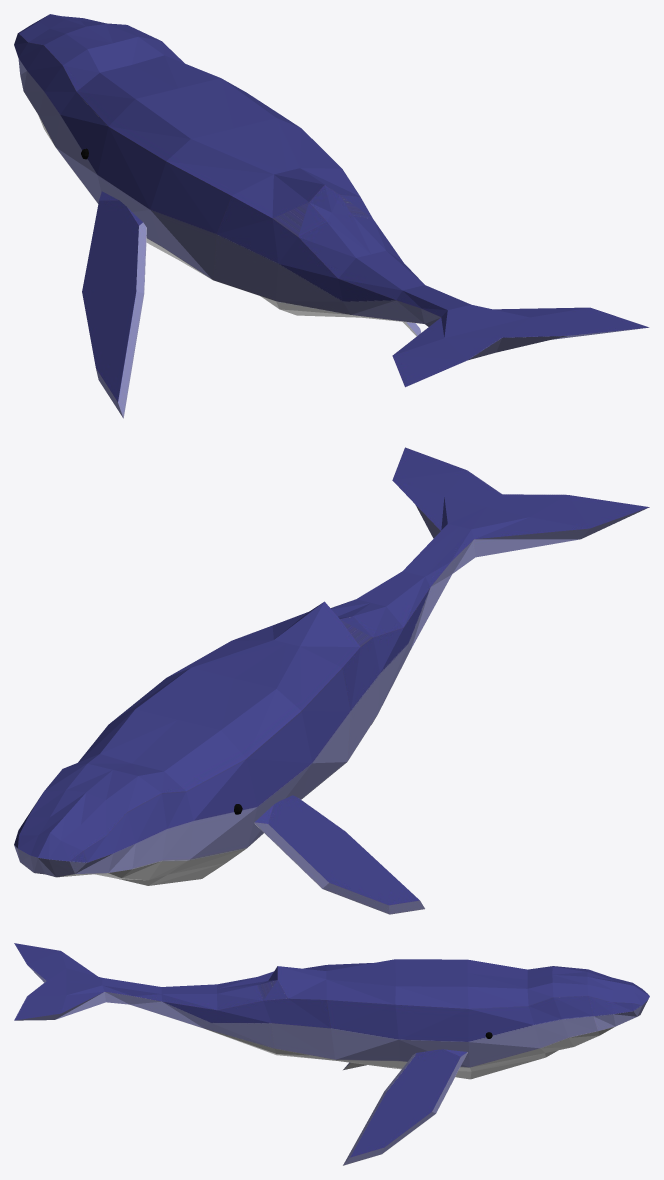
The model's file is HumpbackWhale.gltf.
3 views of the same model, one above another, from view 1: azimuth 30°, elevation 25°; view 2: azimuth 150°, elevation 25°; view 3: azimuth 270°, elevation 25° (orthographic). The views are drawn at different scales.
Parts seen in each view (by area): view 1: whale; view 2: whale; view 3: whale.
Boxes of the visible parts, x1,y1,x2,y2 form: whale: [14, 14, 649, 418]; whale: [14, 447, 649, 914]; whale: [14, 943, 649, 1165].
Size of the model in its own units: 136 by 100 by 380.
Materials: 1 (1 with a texture image).
